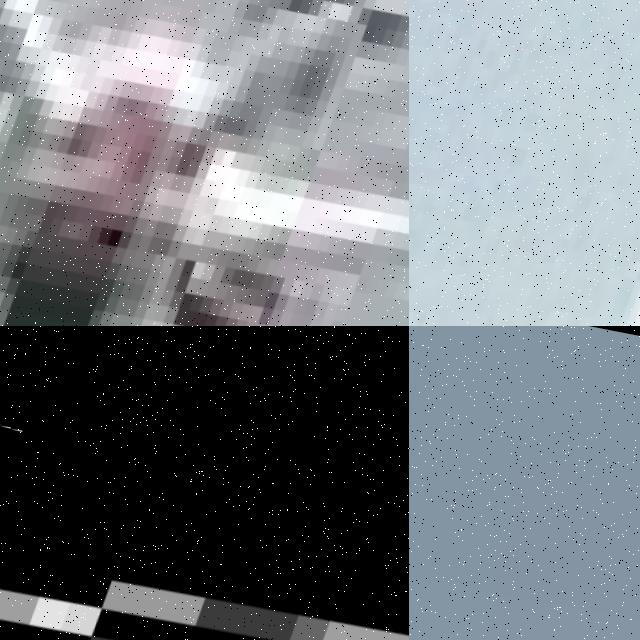drone: (0, 0, 409, 326), (0, 401, 409, 640), (409, 0, 640, 326)
